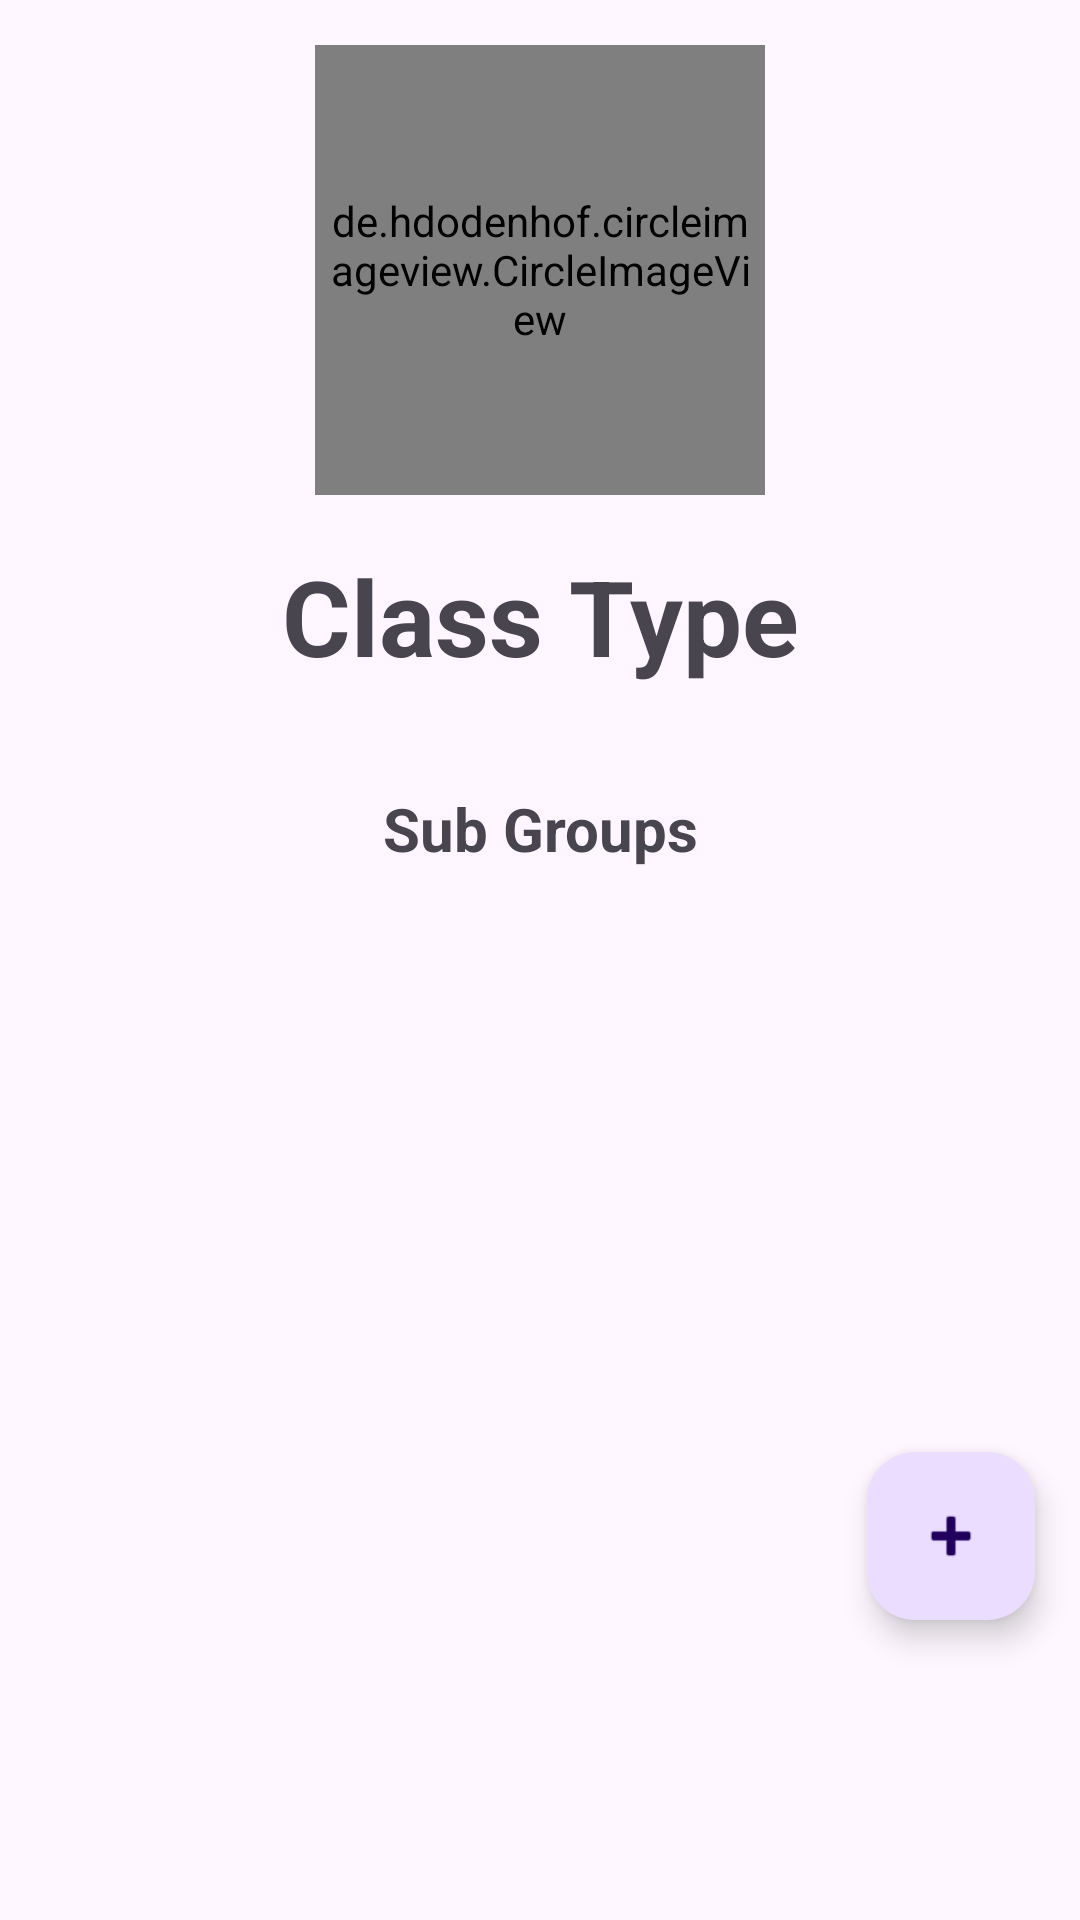

Icons on this 1080 x 1920 Android screen, each with its box as [x1=x1, y1=y1, x2=x2, y2=y2]:
add: [x1=867, y1=1452, x2=1035, y2=1620]
